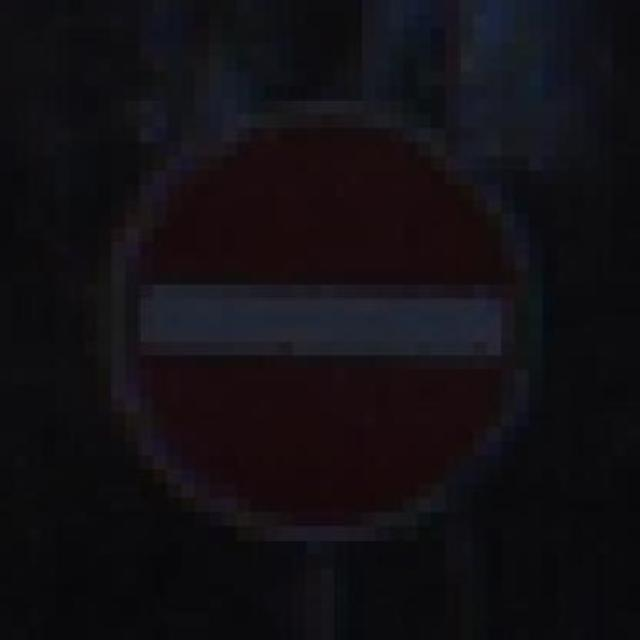No Entry: (56, 85, 570, 569)
